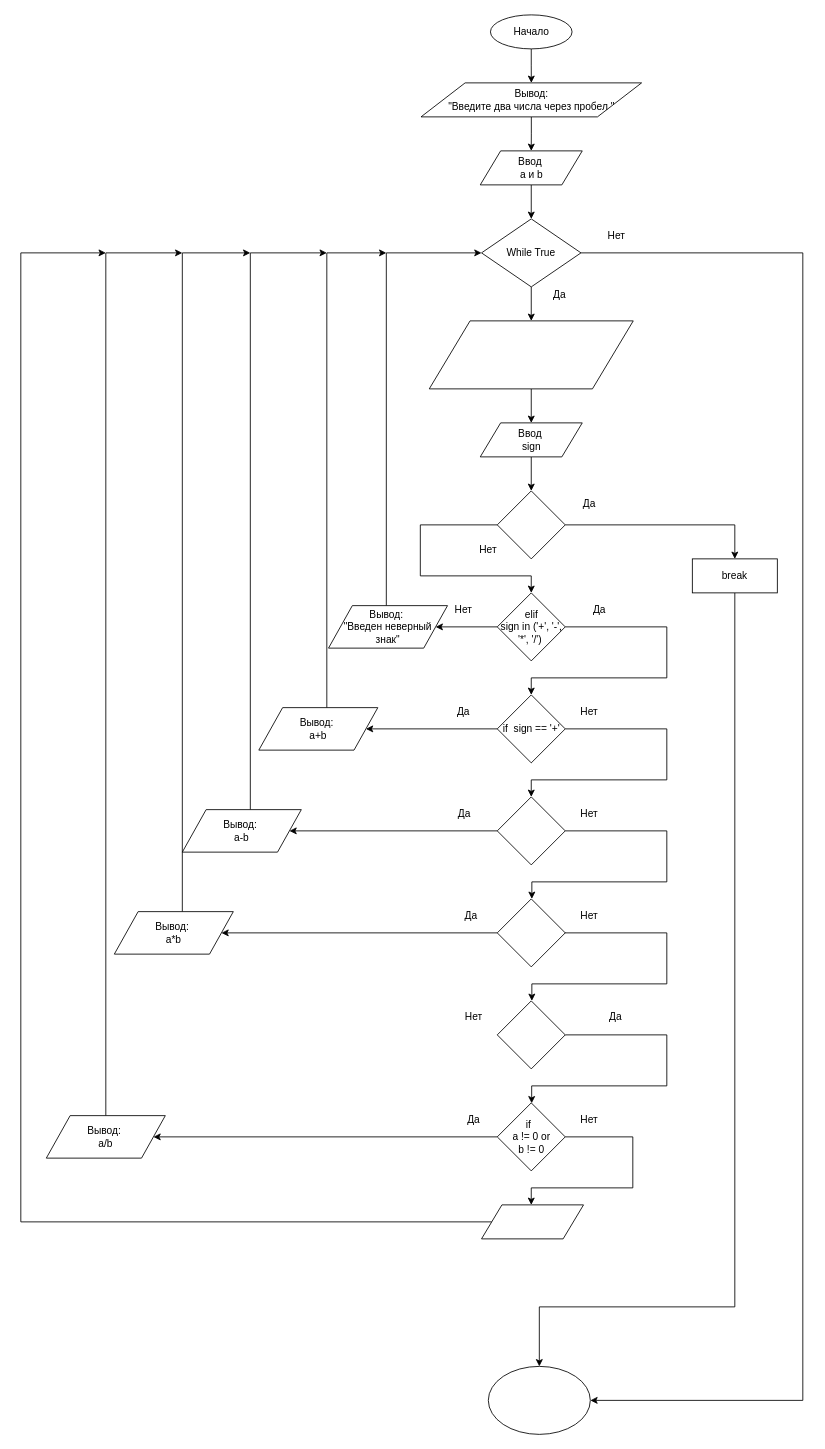
Image size: 825x1449. Some labels were removed from this diagram. Each missing label, with the centre of its shape:
elif sign == '*': point (530, 932)
elif sign == '-': point (530, 830)
elif sign == '/': point (530, 1034)
if sign == '0': point (530, 524)
Вывод: ""Введите знак ('0 (для выхода из программы)' , '+', '-', '*', '/')"": point (530, 354)
Вывод: Ошибка!: point (532, 1221)
Конец: point (538, 1400)
